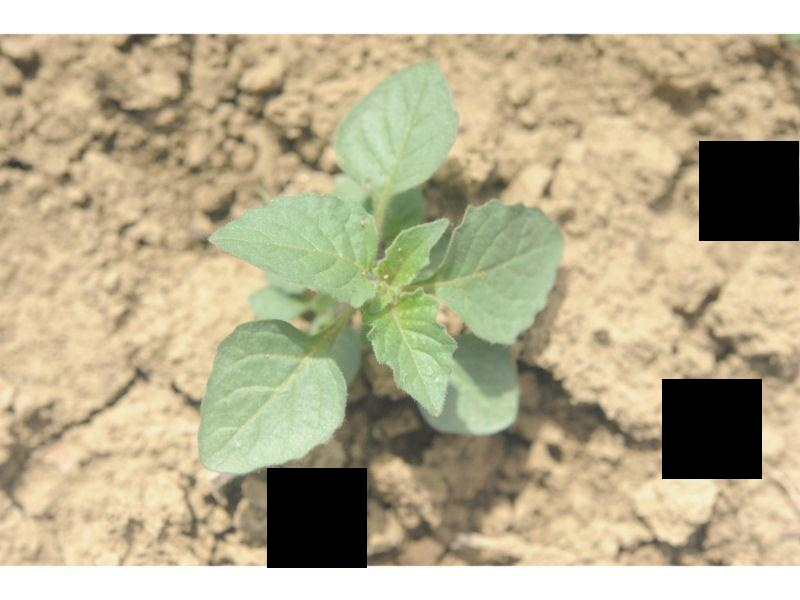nightshade: (199, 58, 560, 475)
